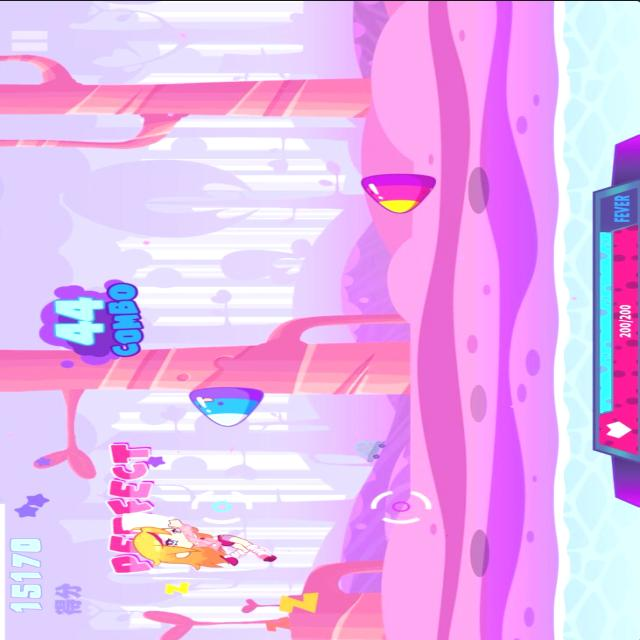jian: (352, 168, 443, 216), (184, 382, 270, 428)
